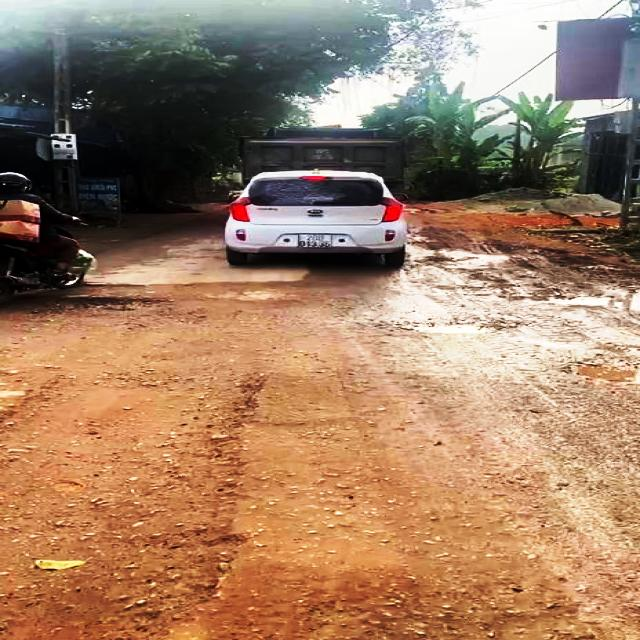pothole: (0, 364, 270, 640), (0, 292, 177, 322), (390, 319, 502, 338)
